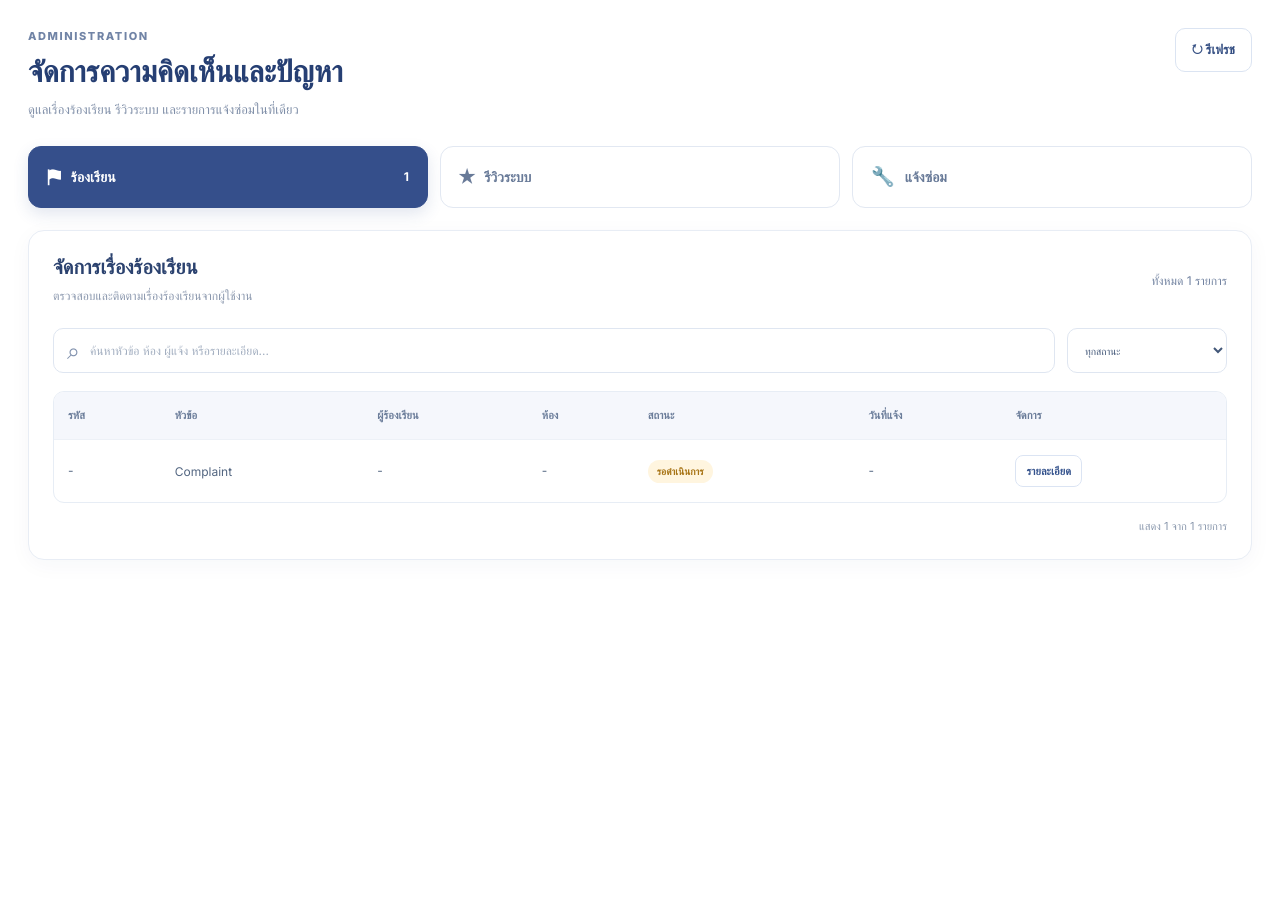
Admin Support feedback management › rejects invalid status changes and preserves backend state when an update fails
Click the button with class "admin-support-detail-button".
click(1049, 471)  # box [1015,455,1082,488]
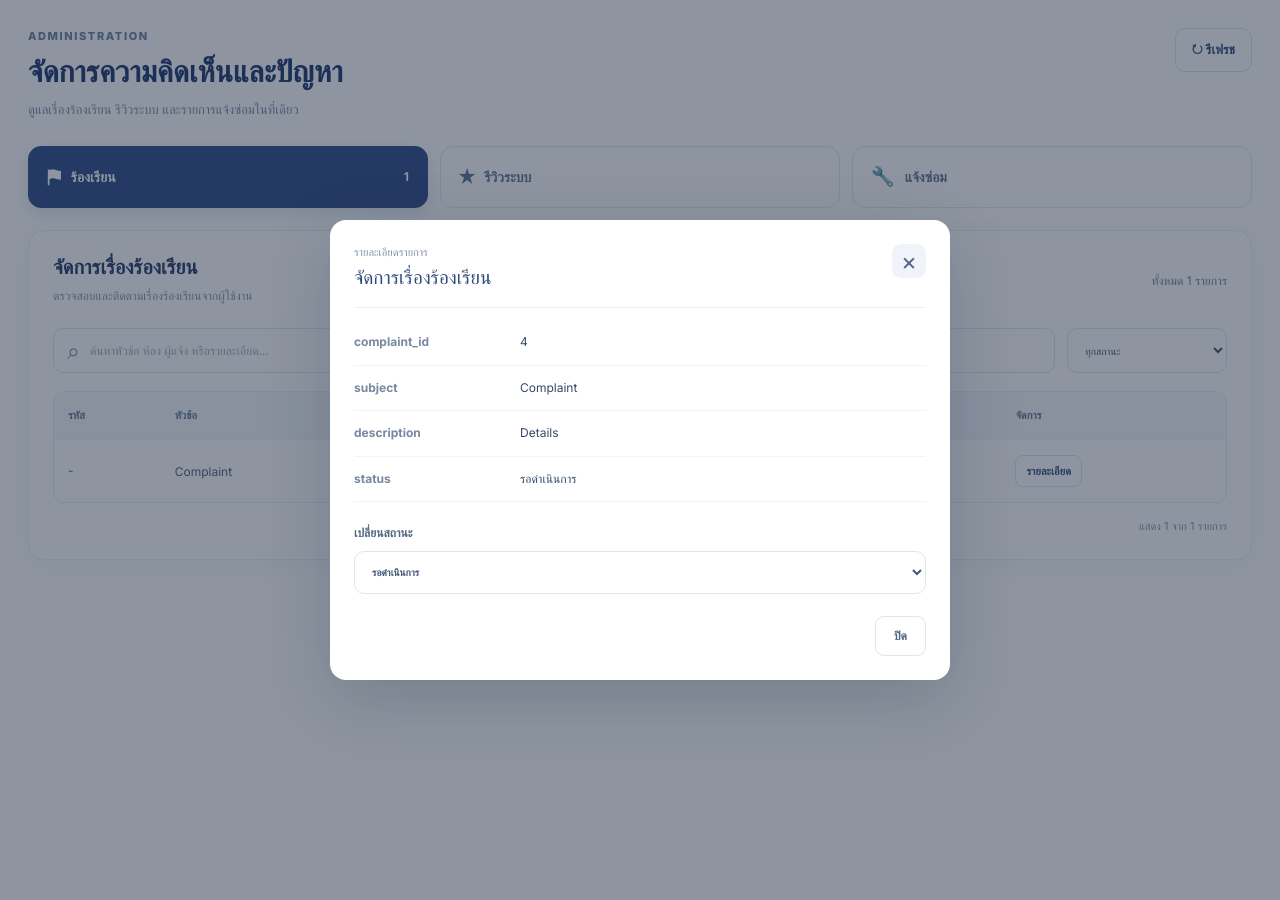
Select "forged-status" in the dropdown labelled "เปลี่ยนสถานะ" at (640, 572), box [354,551,926,594]
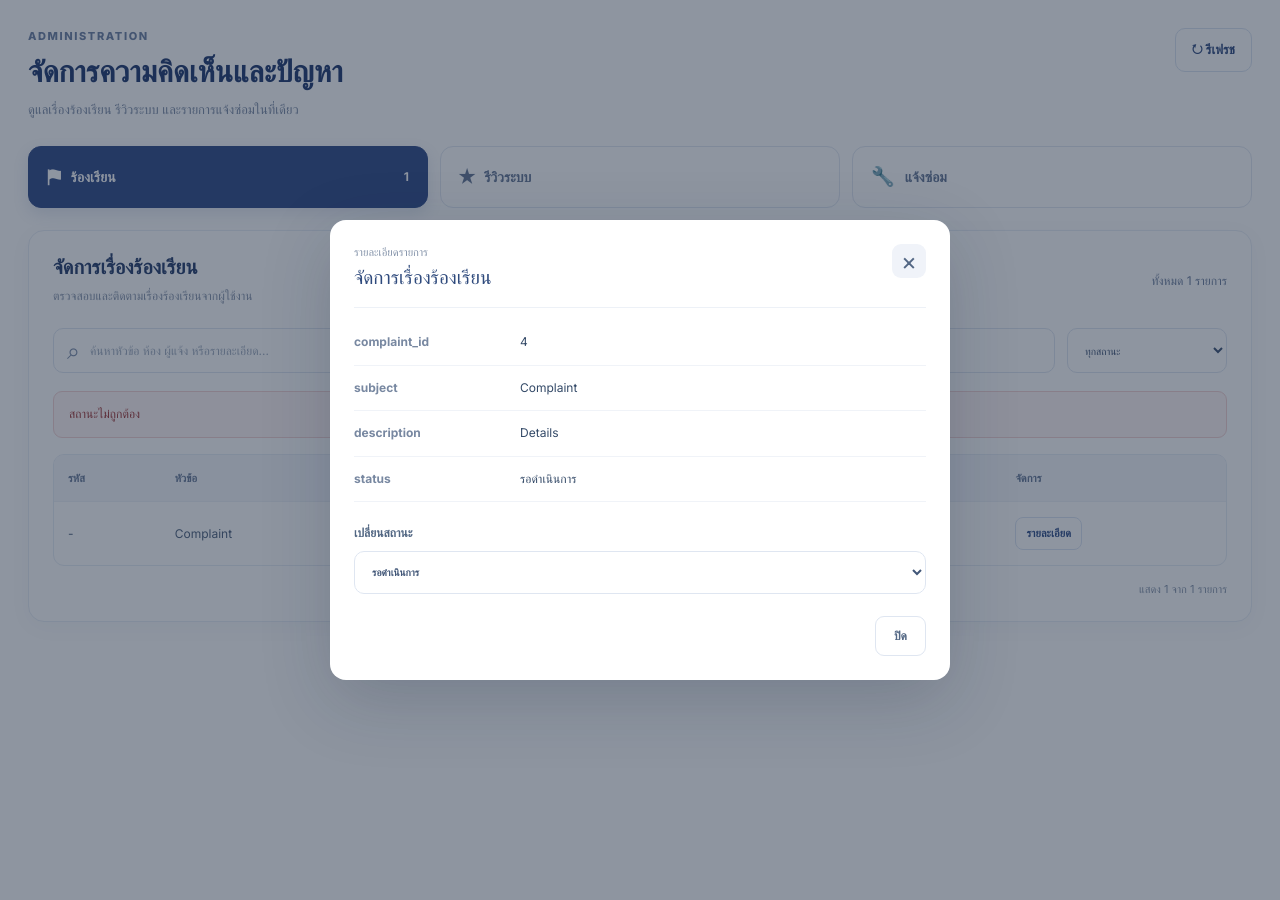
Result: the message "สถานะไม่ถูกต้อง" is shown at [53,392,1227,438]
Select "เสร็จสิ้น" in the dropdown labelled "เปลี่ยนสถานะ" at (640, 572), box [354,551,926,594]
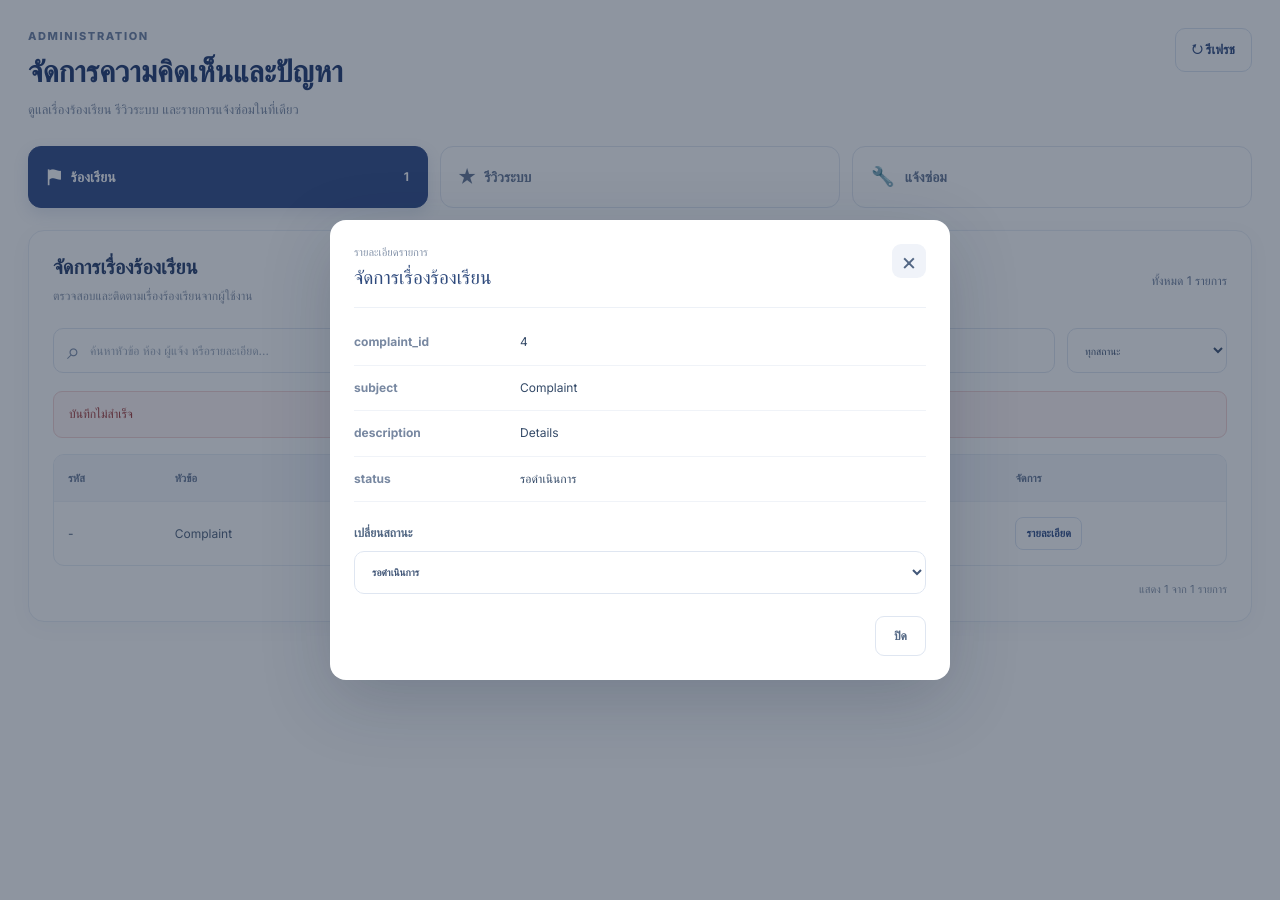
Result: the message "บันทึกไม่สำเร็จ" is shown at [53,392,1227,438]
